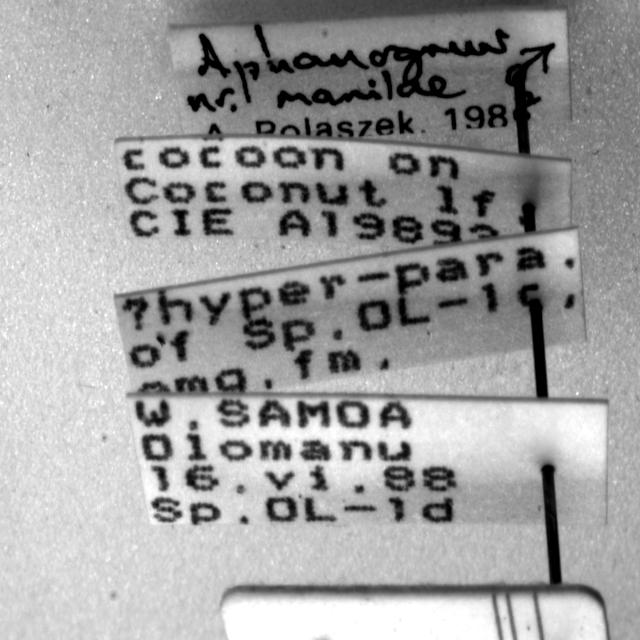mixed_label: (170, 8, 571, 137)
typed_label: (115, 229, 586, 392), (128, 394, 608, 525), (115, 137, 571, 248)
